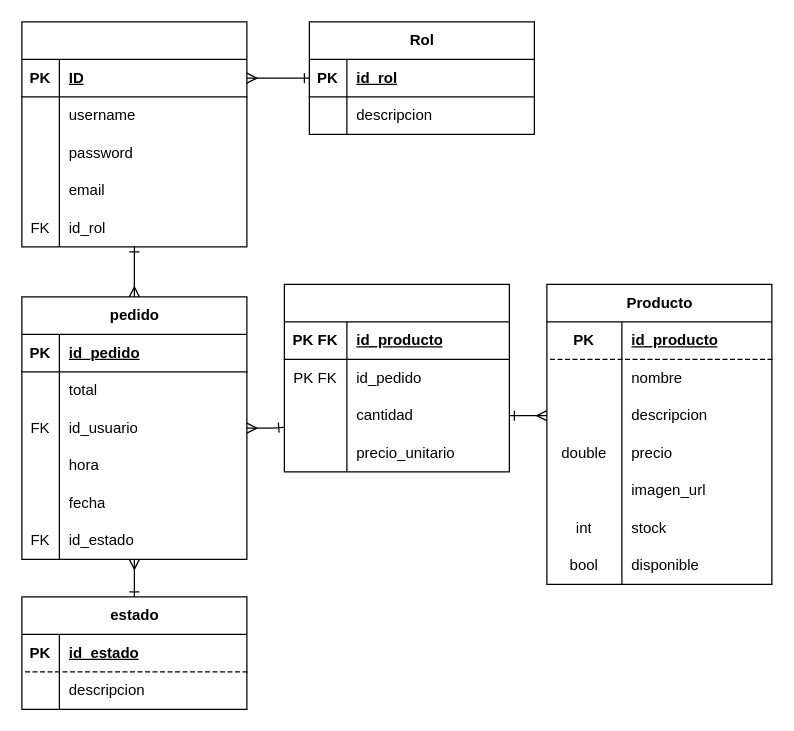
Some shapes in this 794 by 731 pixel diagram are drawn without their labels. Each missing label, with the box of its shape:
pedido_producto: (283, 283, 509, 472)
usuario: (21, 21, 247, 247)
